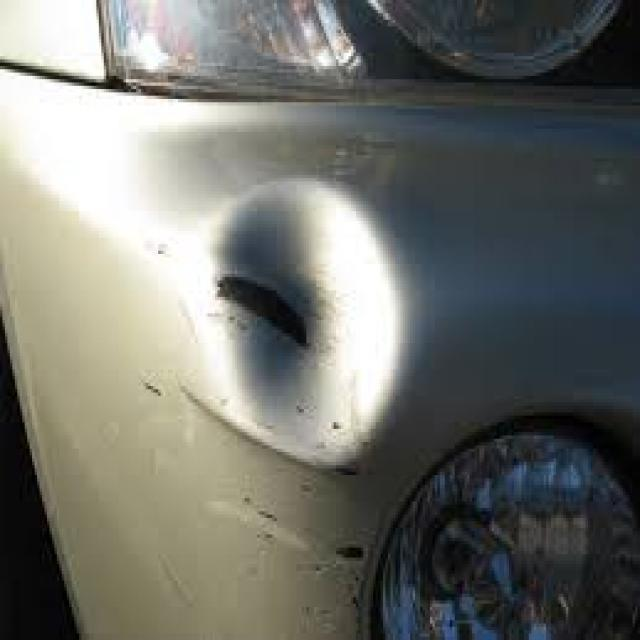dent-or-scratch: (176, 164, 404, 462), (245, 475, 363, 640)
